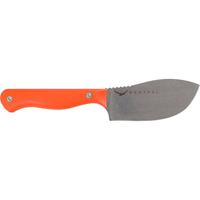knife: (1, 76, 200, 123)
